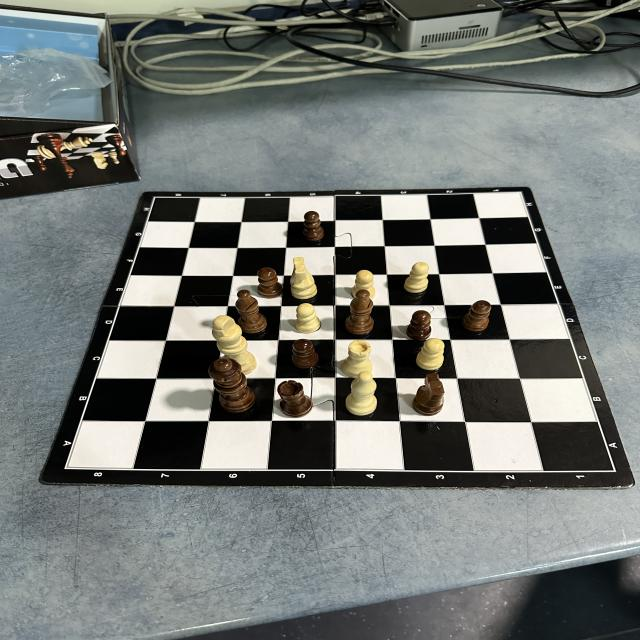Black-Bishop: (235, 289, 268, 334), (344, 289, 376, 335)
Black-Knight: (412, 373, 446, 416)
Black-Pawn: (462, 300, 492, 332), (291, 338, 320, 369), (257, 267, 284, 298), (406, 310, 432, 341), (302, 211, 324, 241), (351, 270, 375, 290)
Black-Queen: (208, 358, 256, 412)
Black-Rook: (277, 380, 312, 418)
White-Bishop: (344, 371, 378, 416)
White-King: (212, 315, 248, 357)
White-Knight: (290, 257, 318, 300)
White-Pawn: (416, 338, 446, 371), (403, 262, 430, 294), (295, 302, 322, 334)
White-Rook: (342, 340, 372, 375)
